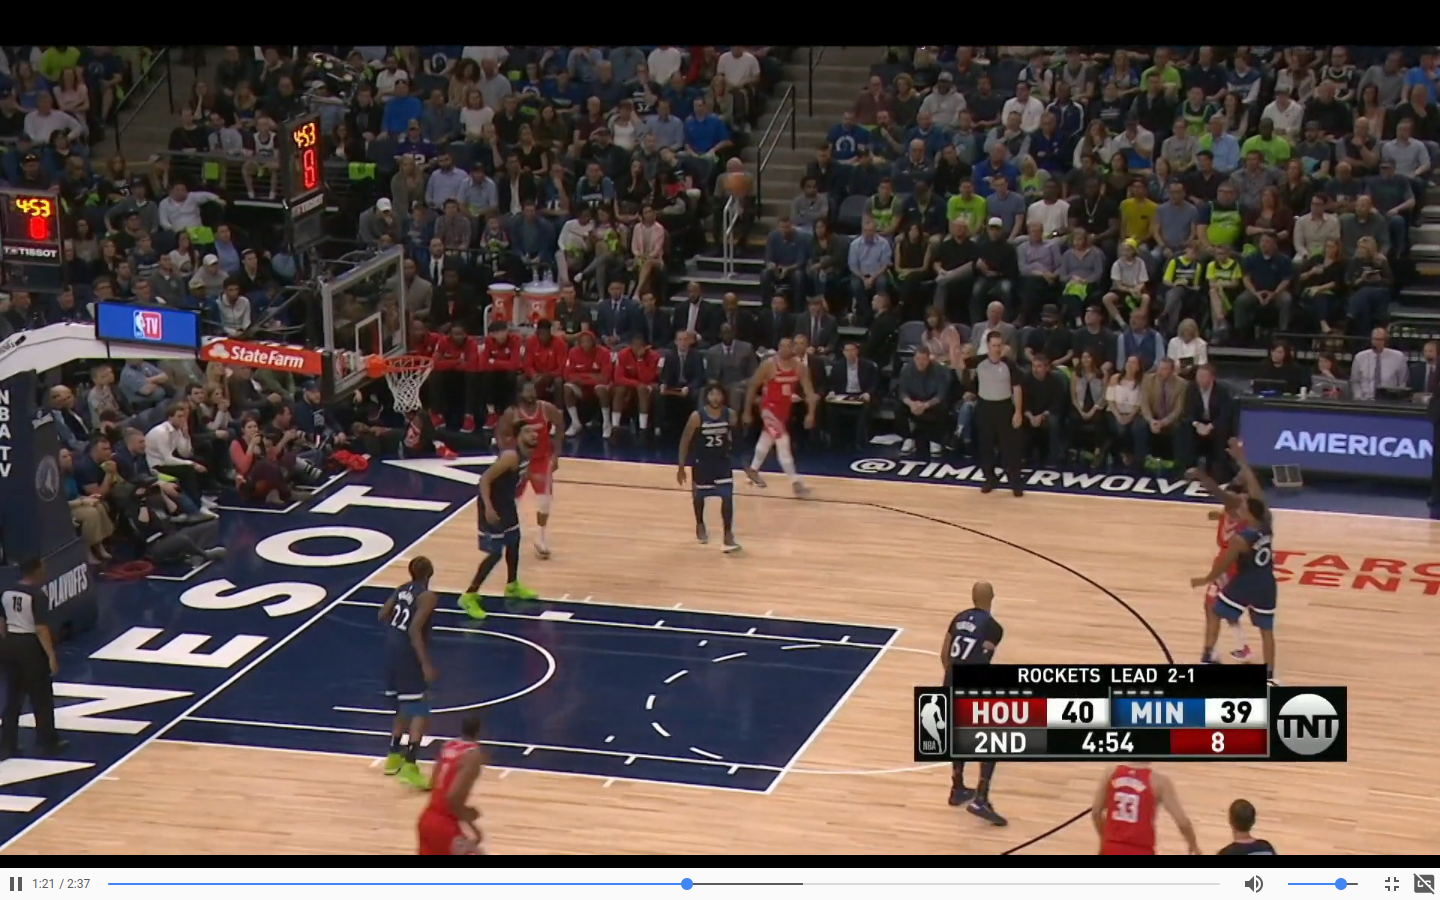ball: (726, 179, 750, 205)
player: (458, 425, 538, 617), (377, 568, 442, 790), (677, 391, 747, 556), (413, 711, 492, 852), (1204, 506, 1273, 664), (751, 346, 809, 499), (1083, 769, 1173, 851), (942, 587, 1004, 660)
referee: (1, 566, 46, 729), (1216, 807, 1281, 849)
